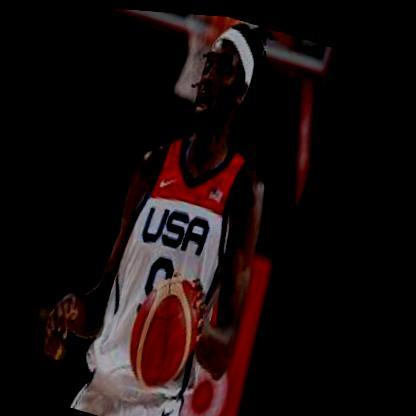basketball: (122, 263, 221, 395)
